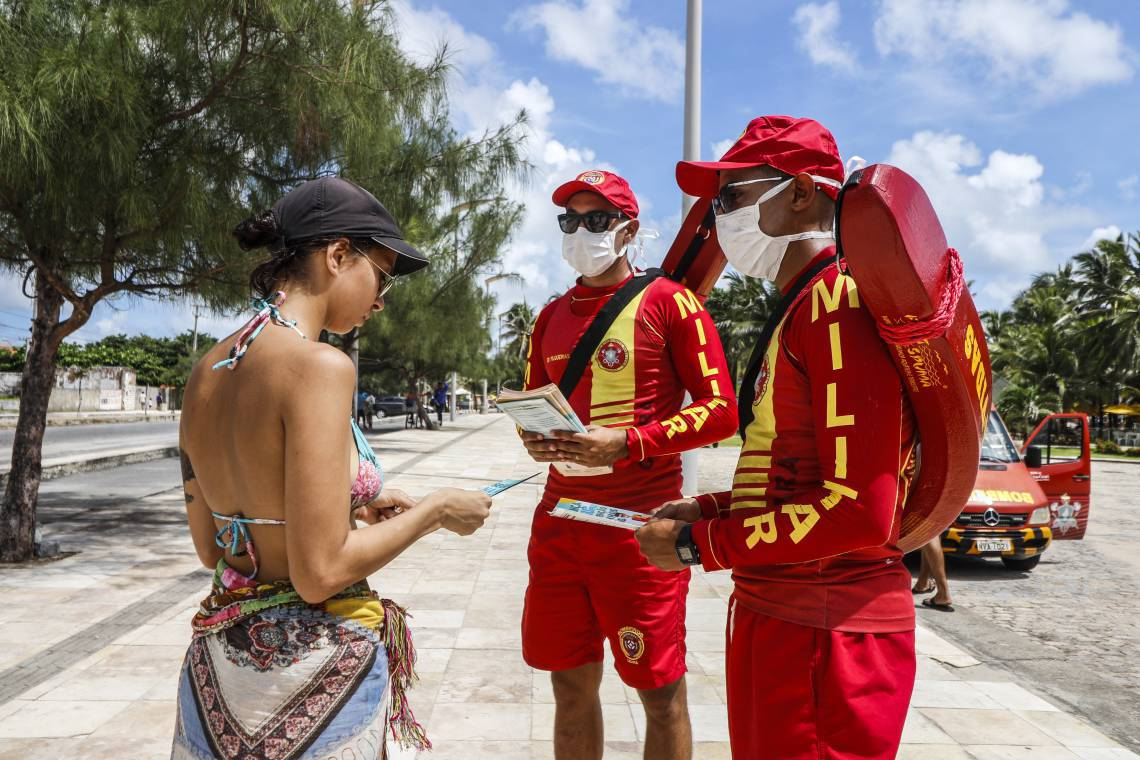with_mask: (699, 152, 820, 303), (555, 205, 640, 281)
without_mask: (310, 239, 412, 342)
